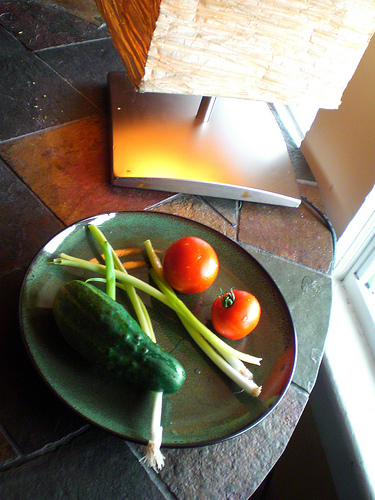cucumber: (50, 278, 188, 393)
